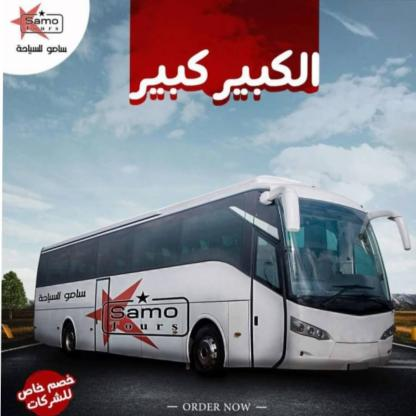Bus: (27, 175, 413, 380)
